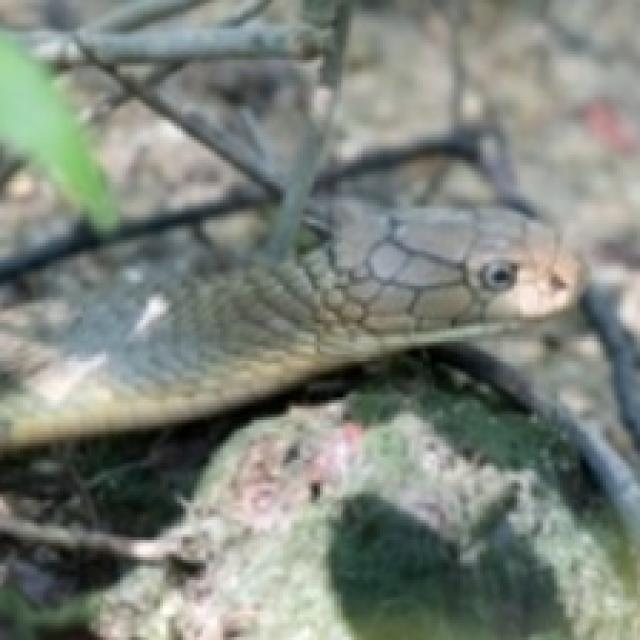king cobra: (0, 363, 637, 637), (120, 137, 571, 371), (40, 346, 137, 403)
